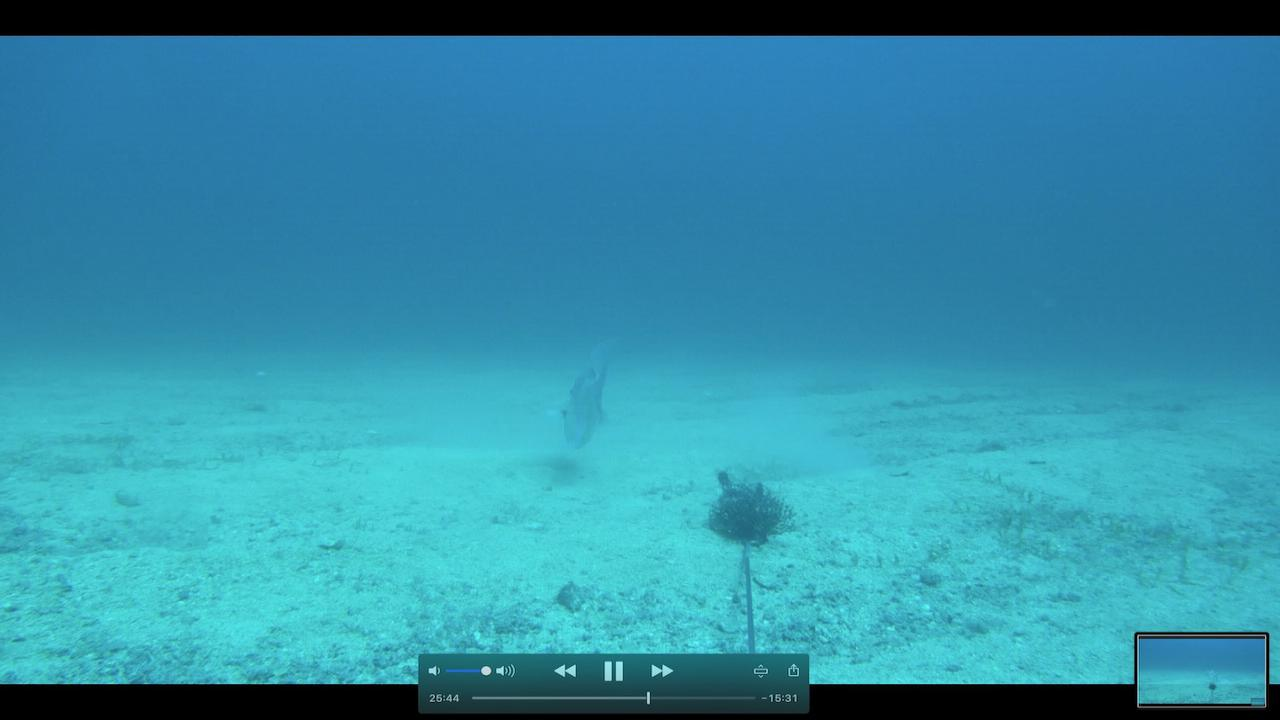balistes: (547, 323, 625, 456)
